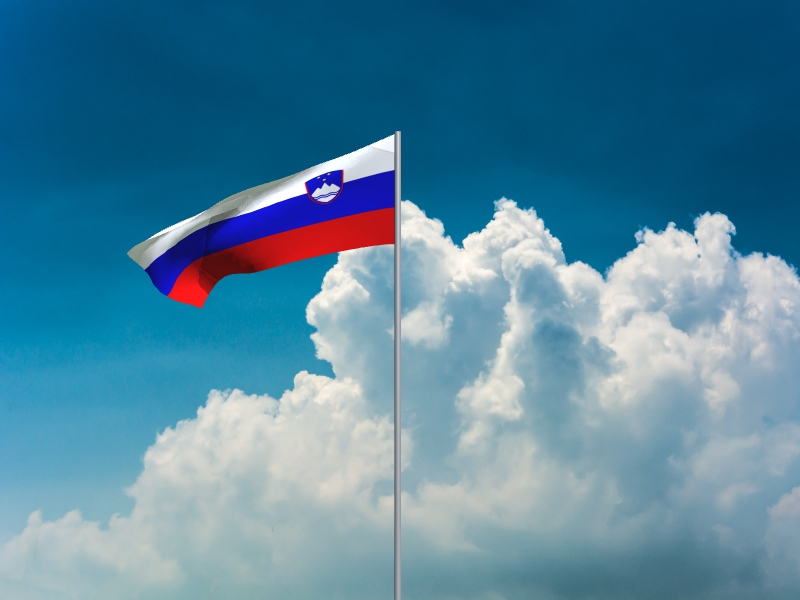si: (127, 134, 395, 310)
